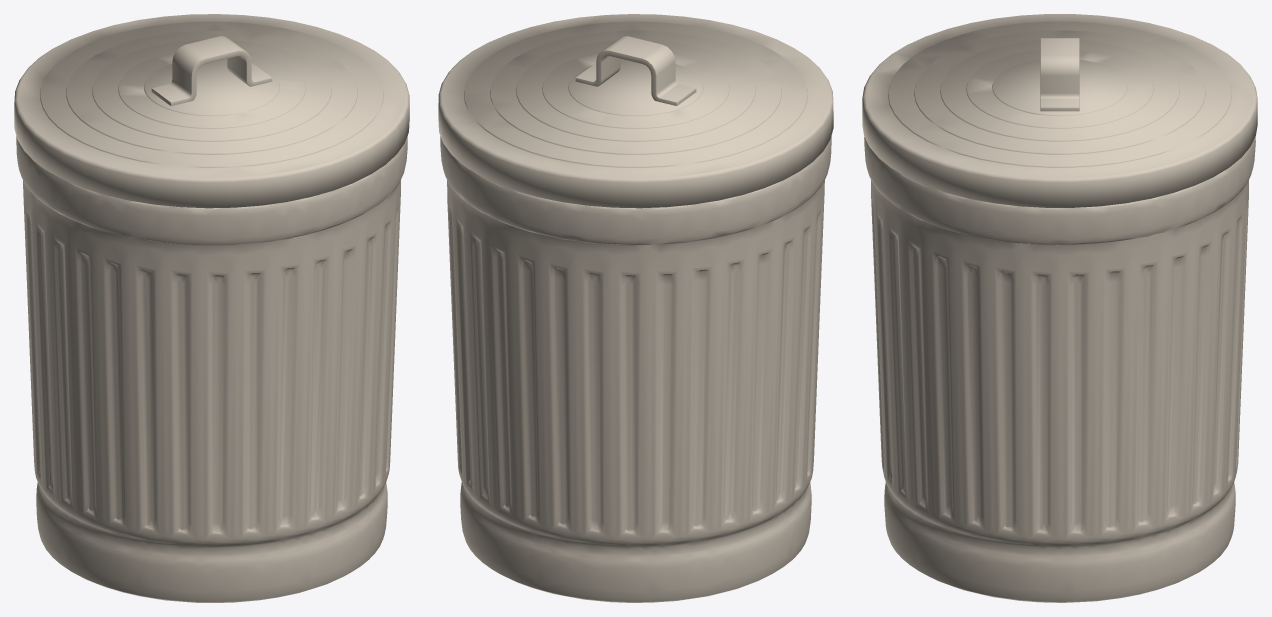
Rendered from trashcan.glb.
3 renders of one model, left to right at view 1: azimuth 30°, elevation 25°; view 2: azimuth 150°, elevation 25°; view 3: azimuth 270°, elevation 25°, orthographic.
Visible parts, largest first — view 1: 실린더, 원형, 큐브; view 2: 실린더, 원형, 큐브; view 3: 실린더, 원형, 큐브.
Part boxes in pixels (bbox=[...]): 실린더: bbox=[16, 135, 407, 602]; 원형: bbox=[14, 14, 409, 208]; 큐브: bbox=[151, 36, 272, 105]; 실린더: bbox=[440, 136, 831, 602]; 원형: bbox=[438, 14, 833, 208]; 큐브: bbox=[575, 36, 696, 105]; 실린더: bbox=[864, 137, 1255, 602]; 원형: bbox=[862, 14, 1257, 207]; 큐브: bbox=[1040, 38, 1079, 111].
Bounding box in the file's own units: 2.24 × 3.04 × 2.25.
